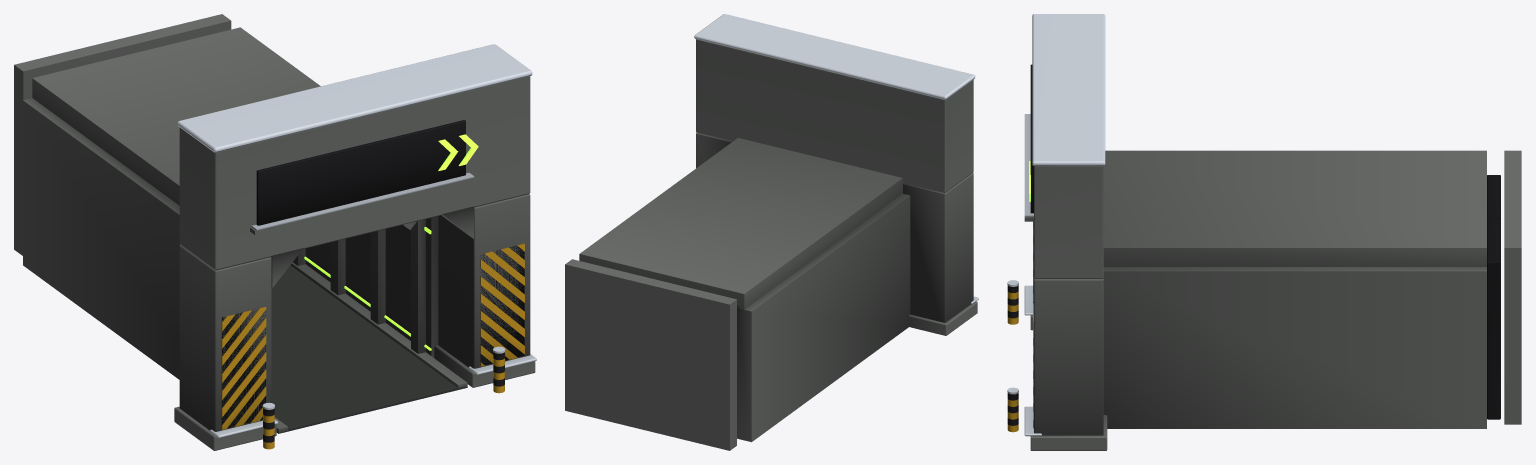
File: gate_tunnel.glb
3 views of the same model, side by side, from view 1: azimuth 30°, elevation 25°; view 2: azimuth 150°, elevation 25°; view 3: azimuth 270°, elevation 25° (orthographic). The views are drawn at different scales.
Parts seen in each view (by area): view 1: GateTunnel; view 2: GateTunnel; view 3: GateTunnel.
Boxes of the visible parts, x1,y1,x2,y2 form: GateTunnel: [14, 14, 536, 450]; GateTunnel: [565, 14, 978, 450]; GateTunnel: [1007, 14, 1521, 450].
Bounding box in the file's own units: 10.2 × 9.15 × 14.77.
